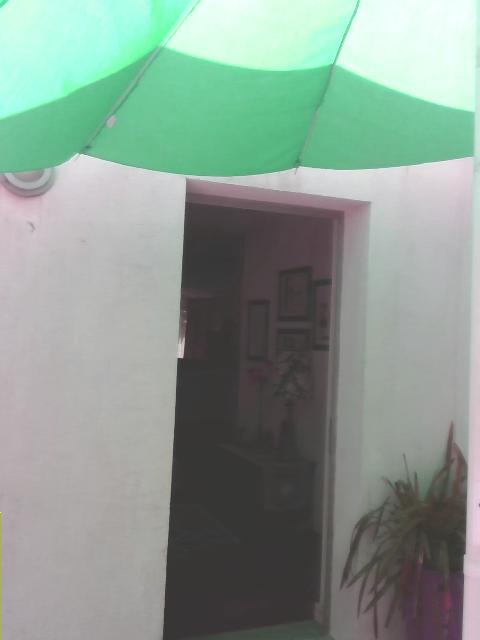open_door: (160, 177, 373, 638)
